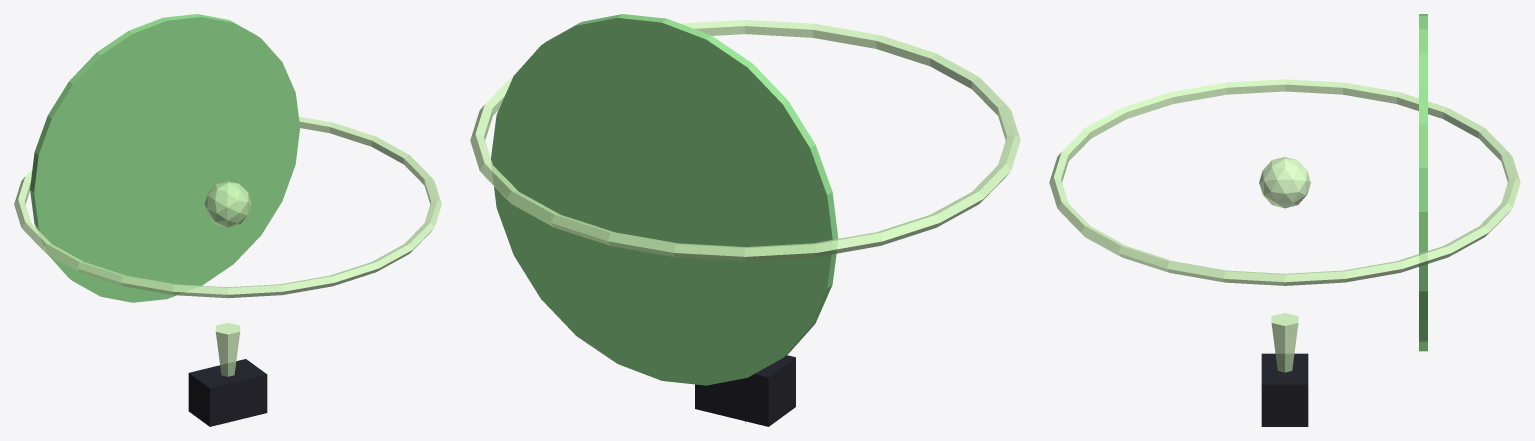
The model's file is 05_combat_start_camera_rig.glb.
3 renders of one model, left to right at view 1: azimuth 30°, elevation 25°; view 2: azimuth 150°, elevation 25°; view 3: azimuth 270°, elevation 25°, orthographic. The views are drawn at different scales.
Visible parts, largest first — view 1: combat_start_trigger_disc, camera_orbit_track, camera_proxy, target_focus_point, look_vector; view 2: combat_start_trigger_disc, camera_orbit_track, camera_proxy; view 3: camera_orbit_track, camera_proxy, combat_start_trigger_disc, target_focus_point, look_vector.
Part boxes in pixels (<box>): combat_start_trigger_disc: <box>30,14,300,302</box>; camera_orbit_track: <box>14,116,441,298</box>; camera_proxy: <box>188,359,267,426</box>; target_focus_point: <box>204,181,251,227</box>; look_vector: <box>215,322,240,423</box>; combat_start_trigger_disc: <box>491,14,838,385</box>; camera_orbit_track: <box>470,20,1020,261</box>; camera_proxy: <box>695,355,795,426</box>; camera_orbit_track: <box>1049,79,1520,285</box>; camera_proxy: <box>1261,353,1308,426</box>; combat_start_trigger_disc: <box>1419,14,1427,351</box>; target_focus_point: <box>1259,157,1310,208</box>; look_vector: <box>1271,313,1298,372</box>.
Size of the model in its own units: 1.81 by 1.68 by 1.81.
